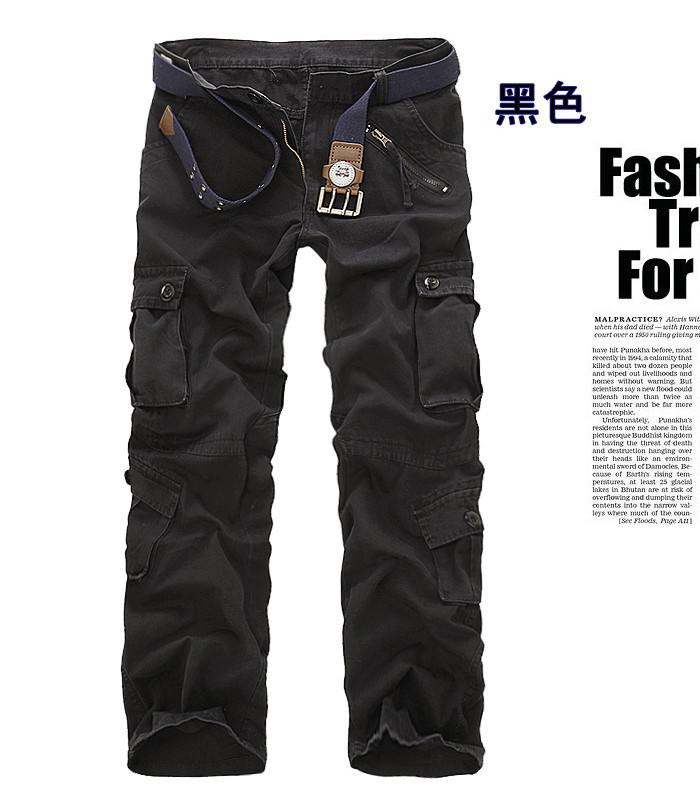pants: (115, 40, 487, 775)
